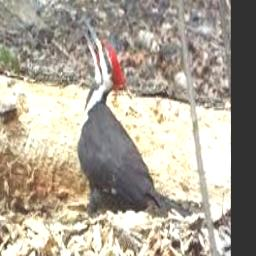Woodpecker: (77, 21, 192, 217)
